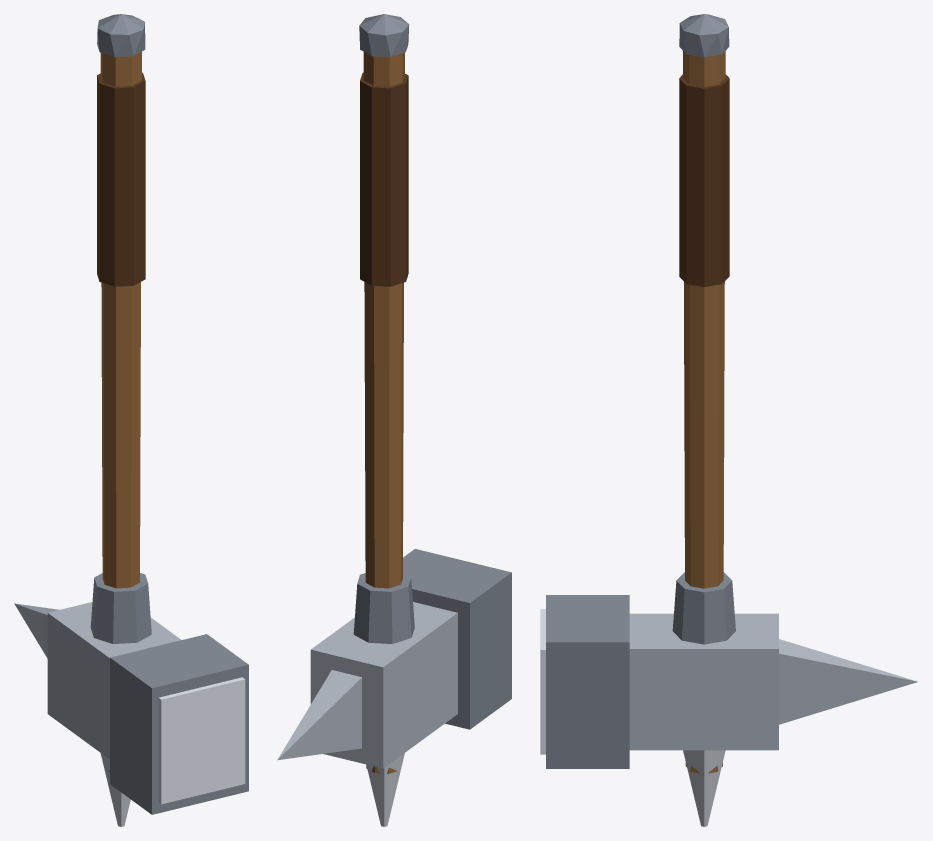
The model's file is held_steel_warhammer.glb.
The picture shows the model from 3 angles, left to right: view 1: azimuth 30°, elevation 25°; view 2: azimuth 150°, elevation 25°; view 3: azimuth 270°, elevation 25°; orthographic projection.
Parts seen in each view (by area): view 1: held_steel_warhammer; view 2: held_steel_warhammer; view 3: held_steel_warhammer.
Boxes of the visible parts, x1,y1,x2,y2 form: held_steel_warhammer: (14, 14, 248, 826); held_steel_warhammer: (277, 14, 511, 826); held_steel_warhammer: (540, 14, 917, 826).
Bounding box in the file's own units: 0.12 × 0.961 × 0.406.
